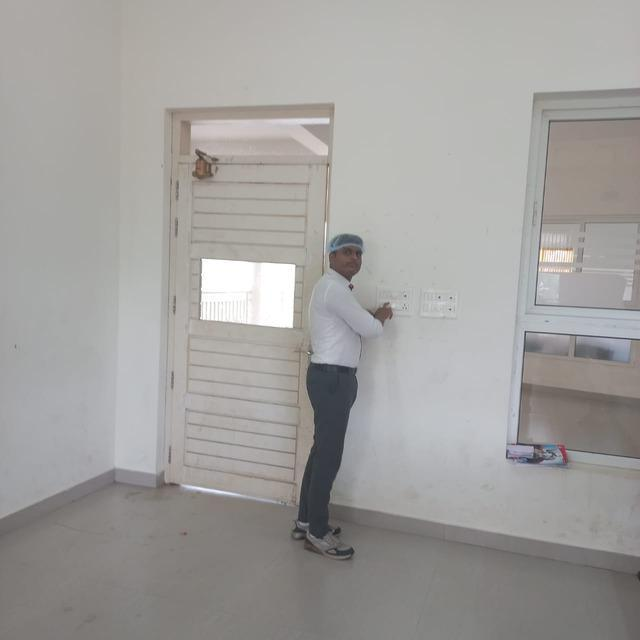bare_hand: (378, 304, 394, 326)
